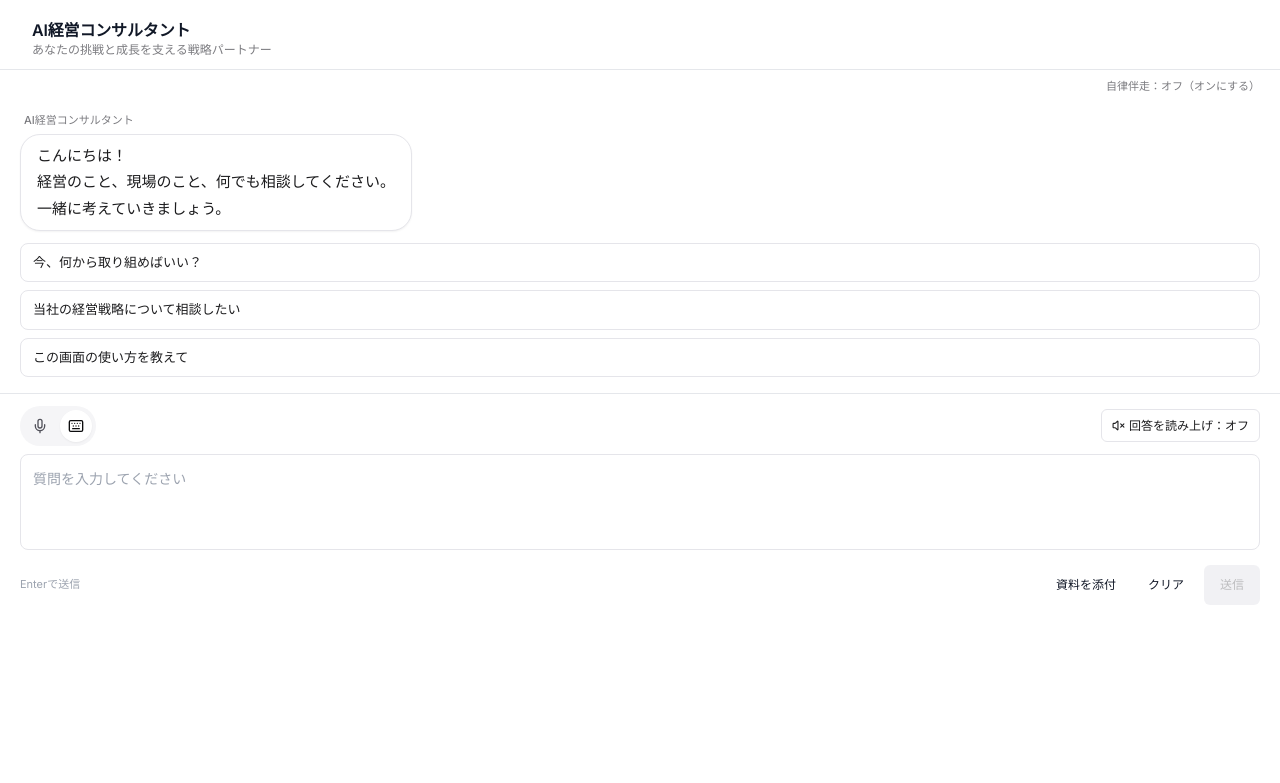
自律伴走：権限 › 編集権限がない利用者には、編集は管理者・管理職が行うと添える
The image size is (1280, 783).
expect the text box is enabled: met, box [20,454,1260,550]
Click the button "自律伴走：オフ（オンにする）": (1183, 87) [1106,78,1260,96]
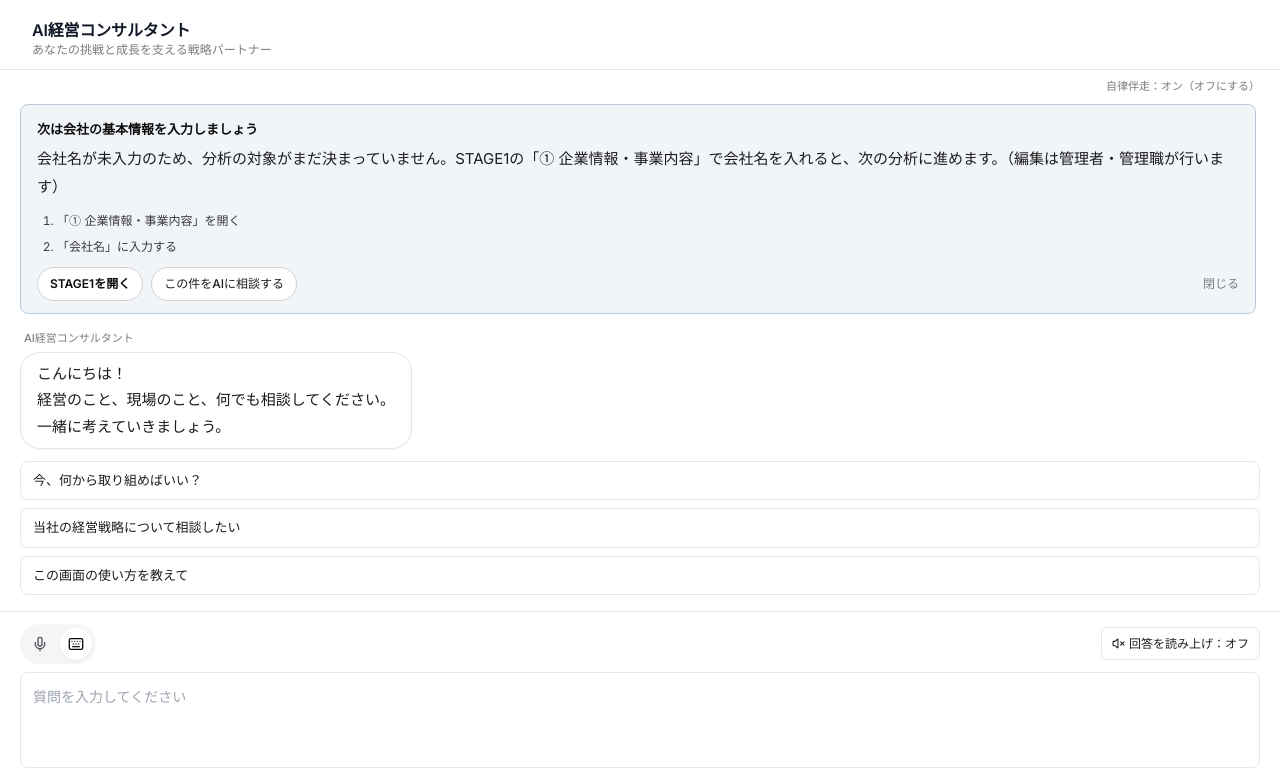
expect the element named "AI経営コンサルタントからの案内" shows "編集は管理者・管理職が行います": met, box [37,149,1224,196]
